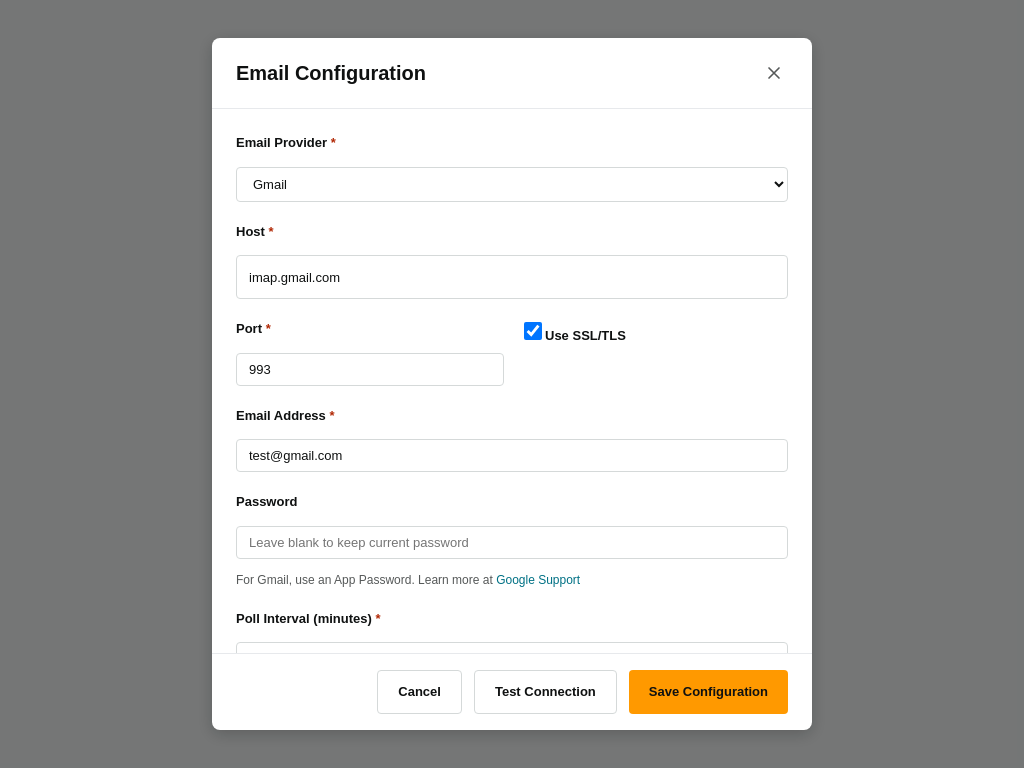
Scenario: EmailConfigDialog › Test Connection › should show success message when test succeeds
Click the button "Test Connection" at (545, 692), box x1=474 y1=670 x2=617 y2=714
(page scrolled)
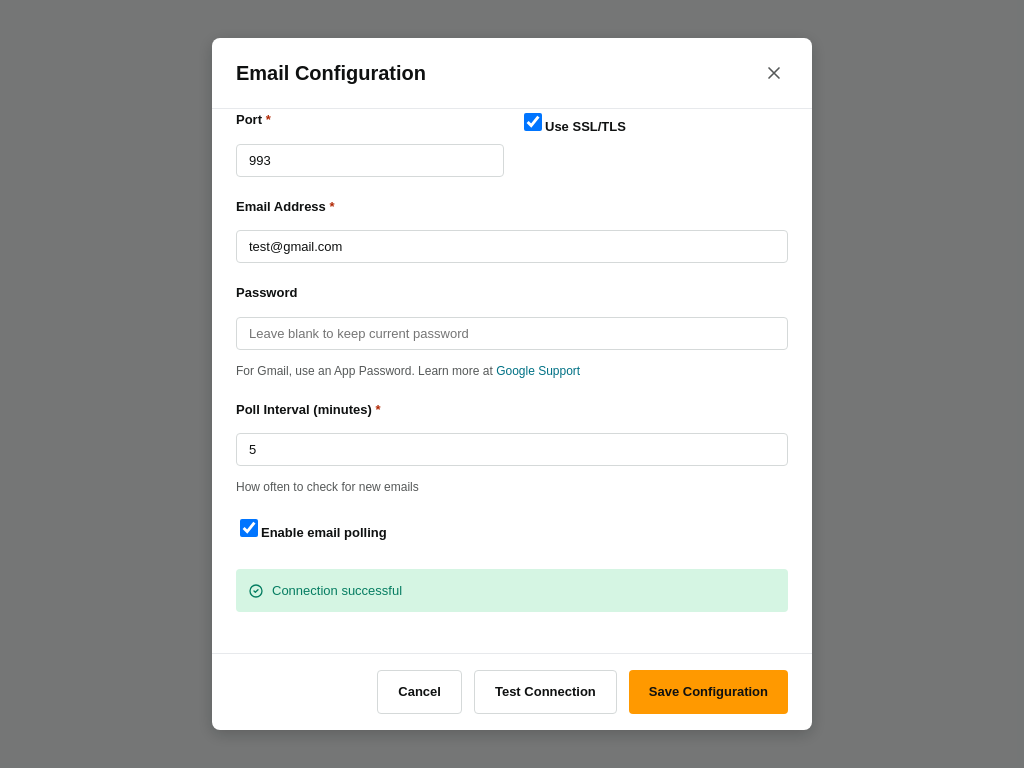
Expected: the text "Connection successful" is shown, x1=272 y1=581 x2=402 y2=600
